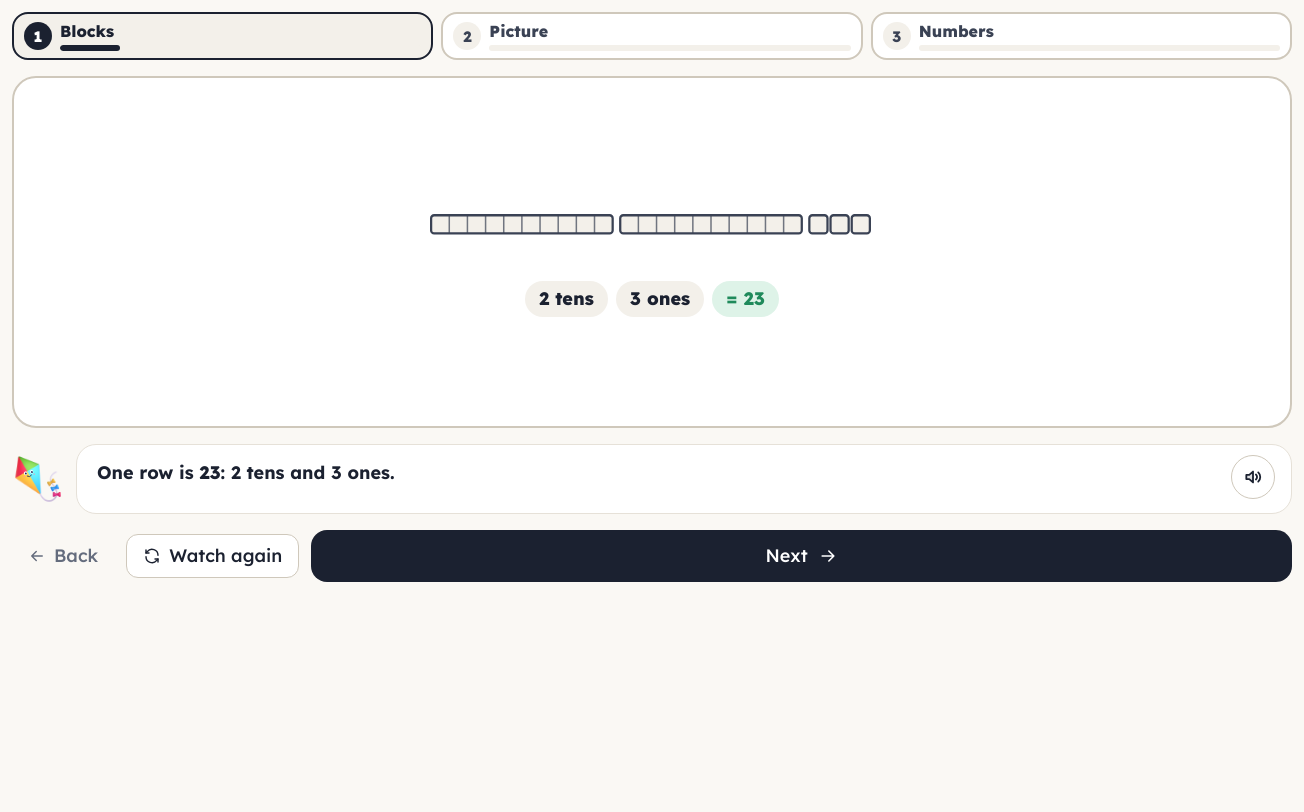
Test: long multiplication stage (ANIM-001 v2) › has the child fill the gap after the digits step left for × 10
Click the button "3 Numbers" at (956, 31), box [871, 12, 1292, 60]
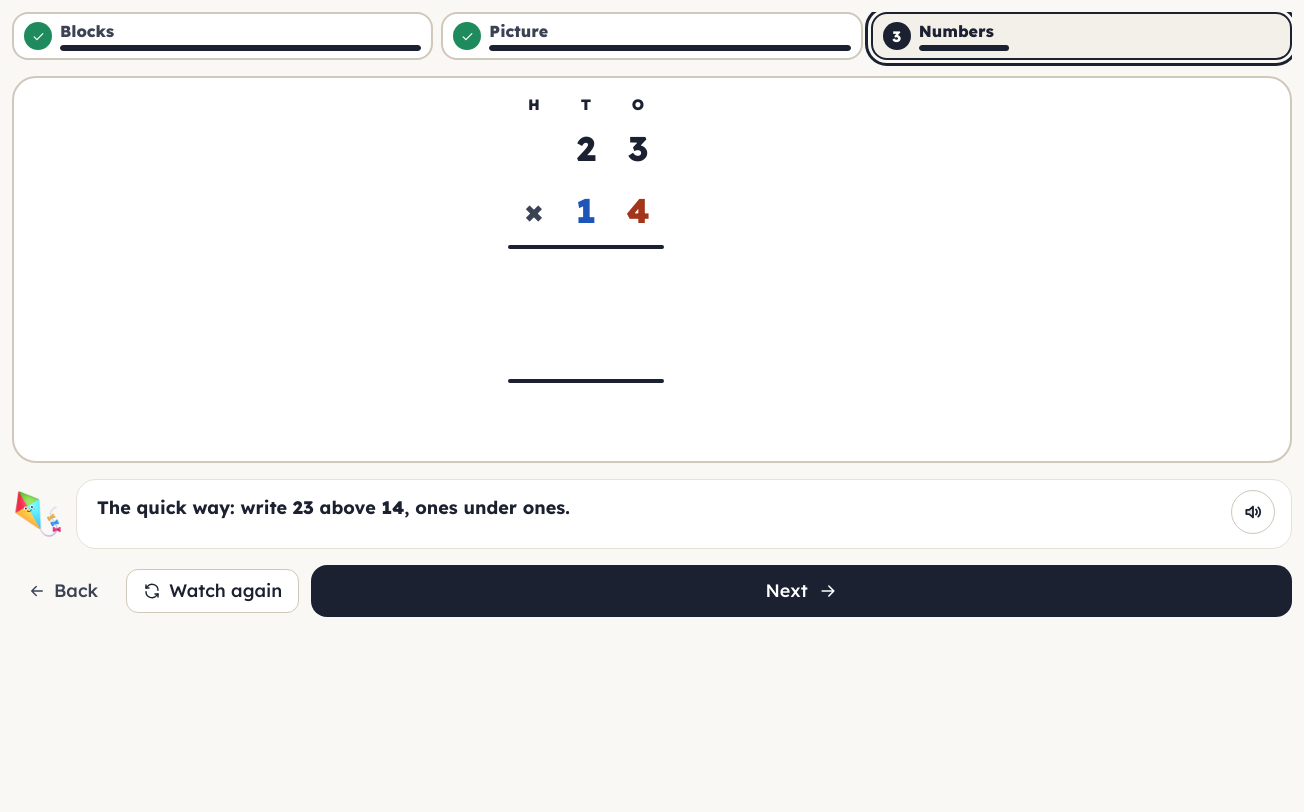
Click the button "Next" at (802, 591), box [311, 565, 1292, 617]
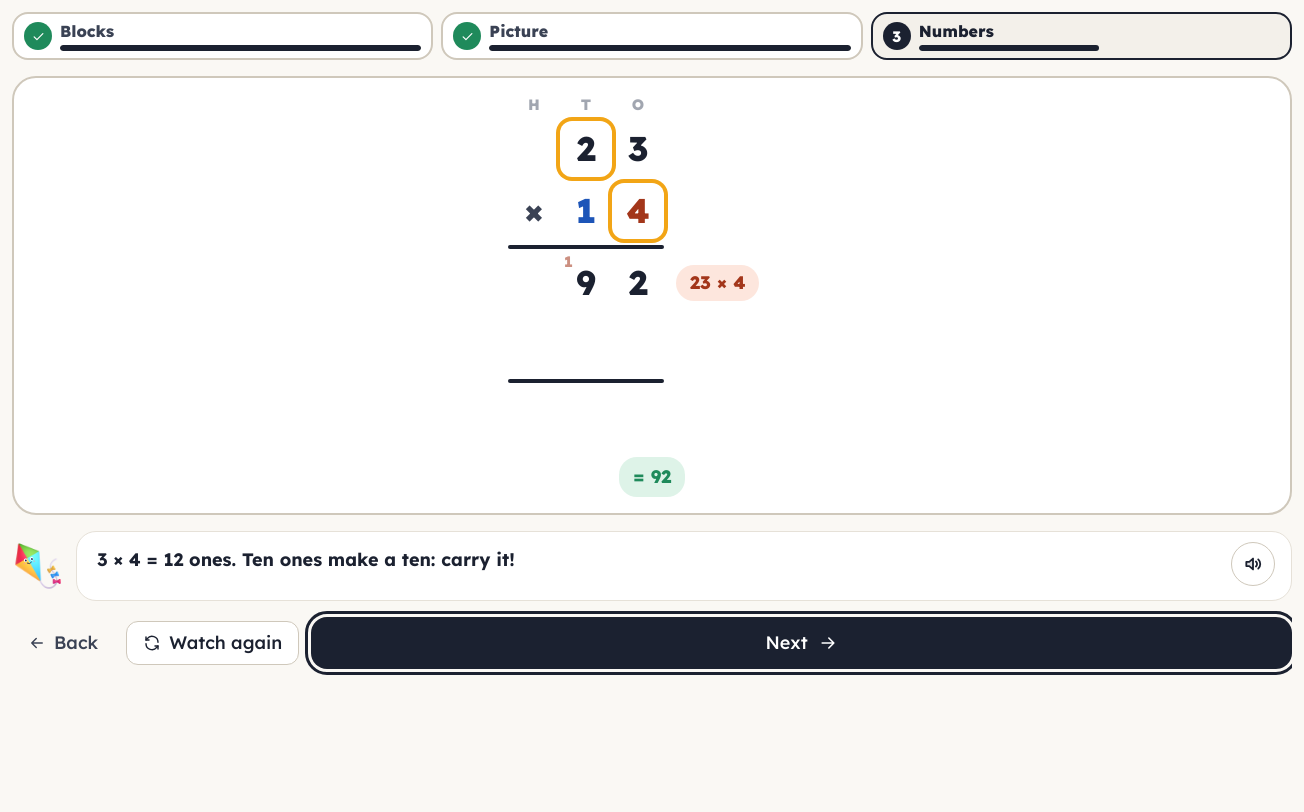
Expected: the text "23 × 4" is shown, [676, 265, 759, 301]
Click the button "Next" at (802, 643), box [311, 617, 1292, 669]
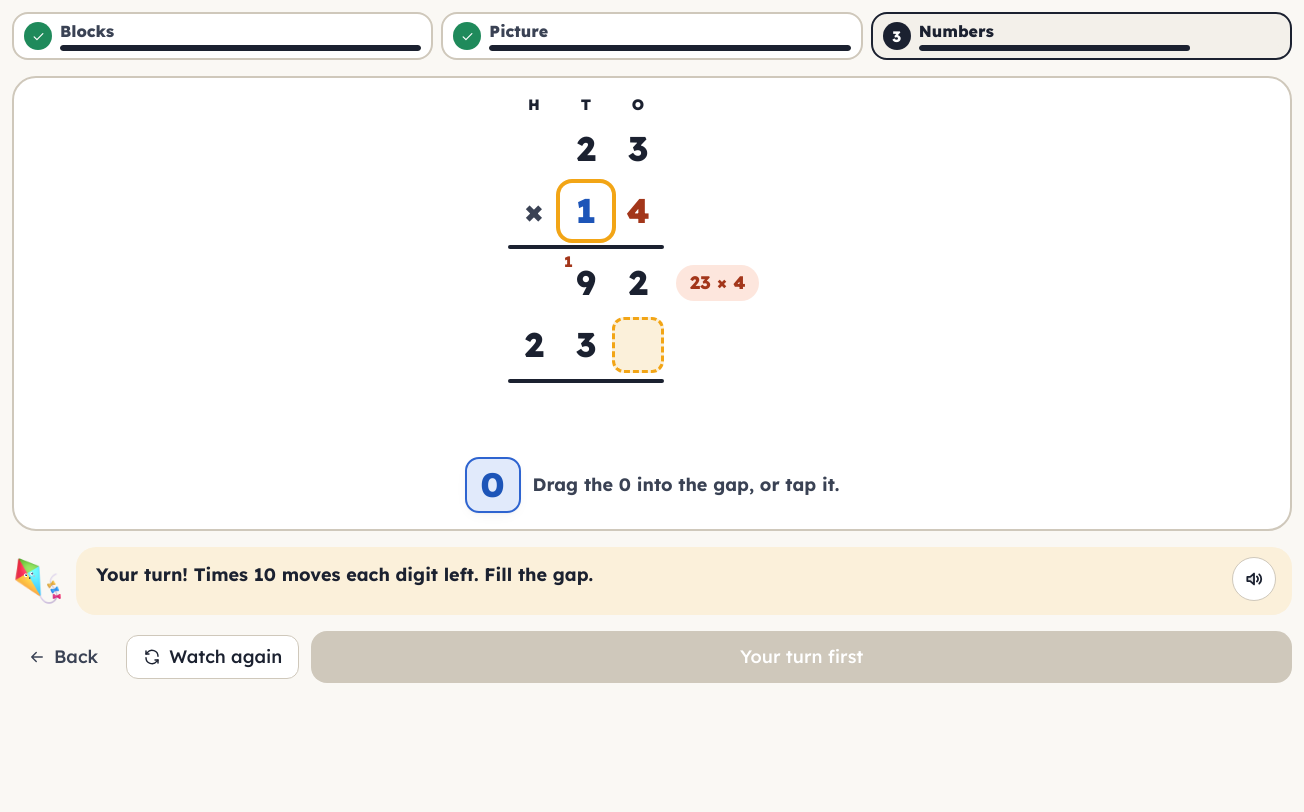
Expected: the element named "Empty ones place" is shown, [615, 320, 661, 370]
Click the button named "Put a 0 in the ones place" at (492, 485), box [464, 457, 520, 513]
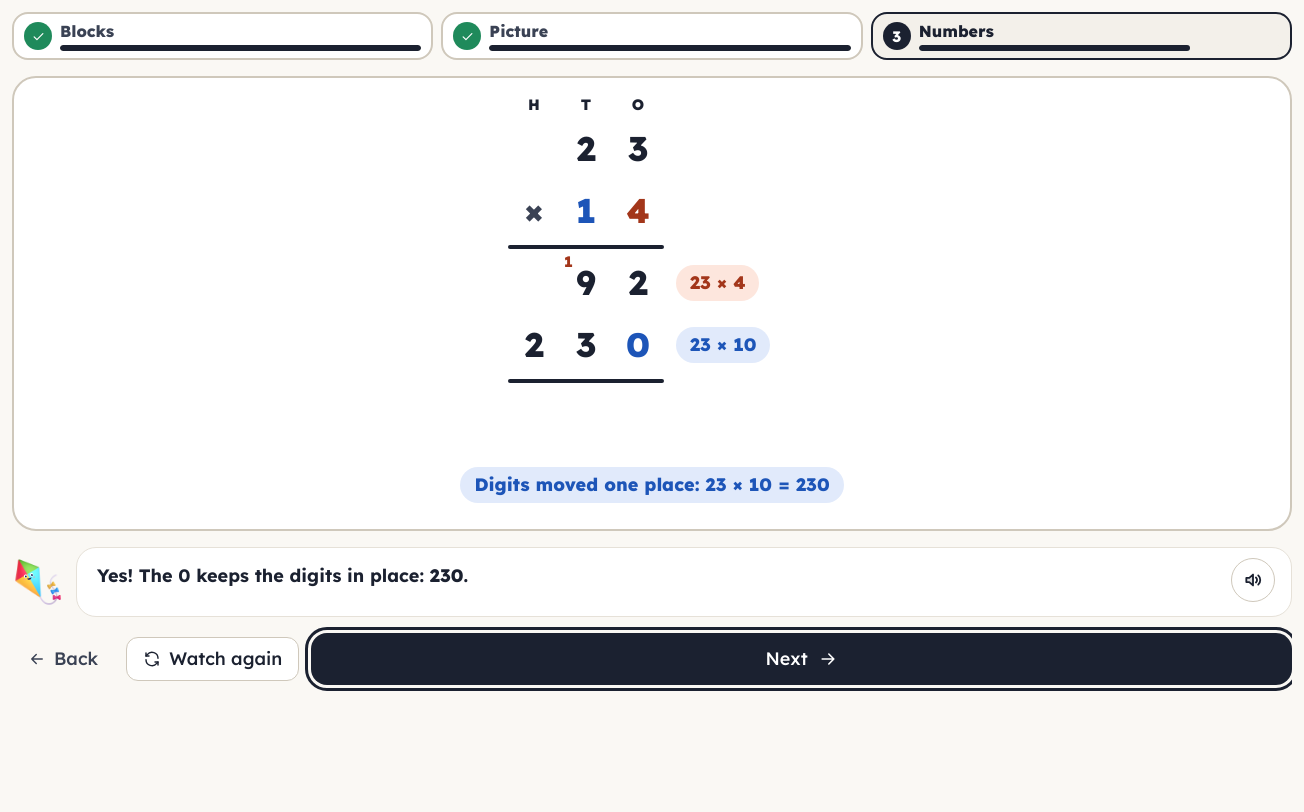
Expected: the element showing "Yes! The 0 keeps the digits in place: 230." is shown, [97, 564, 468, 587]
Expected: the text "Digits moved one place: 23 × 10 = 230" is shown, [460, 467, 844, 503]
Click the button "Next" at (802, 659), box [311, 633, 1292, 685]
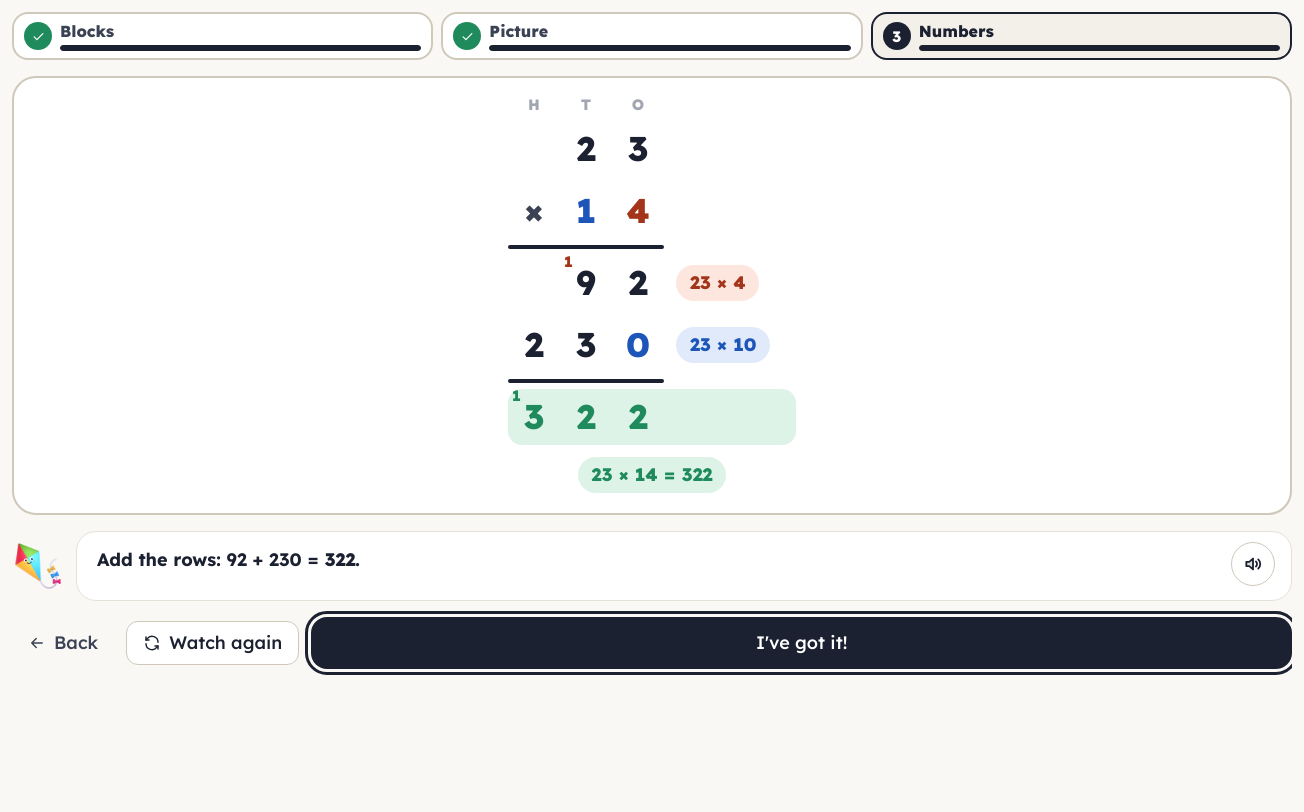
Expected: the button "I've got it!" is shown, [311, 617, 1292, 669]
